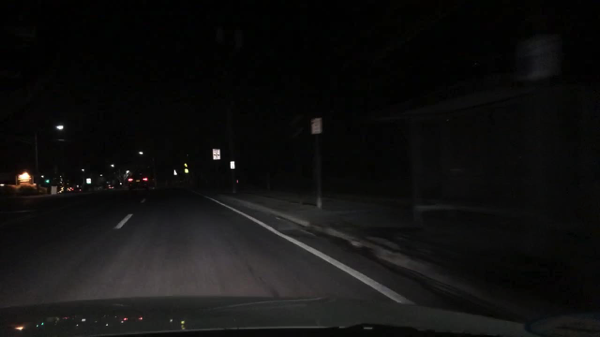car: (127, 172, 149, 191)
traffic sign: (311, 118, 322, 134), (213, 148, 220, 160), (230, 161, 235, 169), (86, 177, 91, 184)
